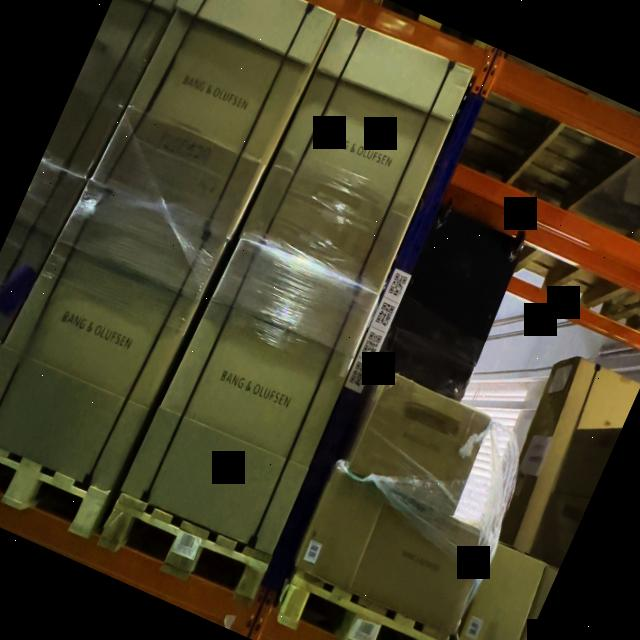box: (122, 239, 377, 555), (0, 180, 222, 492), (242, 19, 474, 291), (92, 0, 336, 240), (348, 371, 491, 519), (351, 493, 480, 635), (295, 467, 384, 593), (459, 544, 546, 640)
